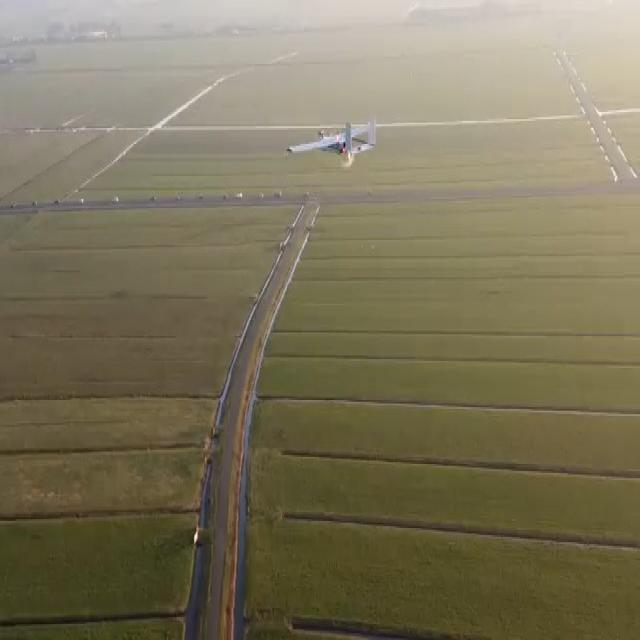drones: (283, 114, 383, 171)
